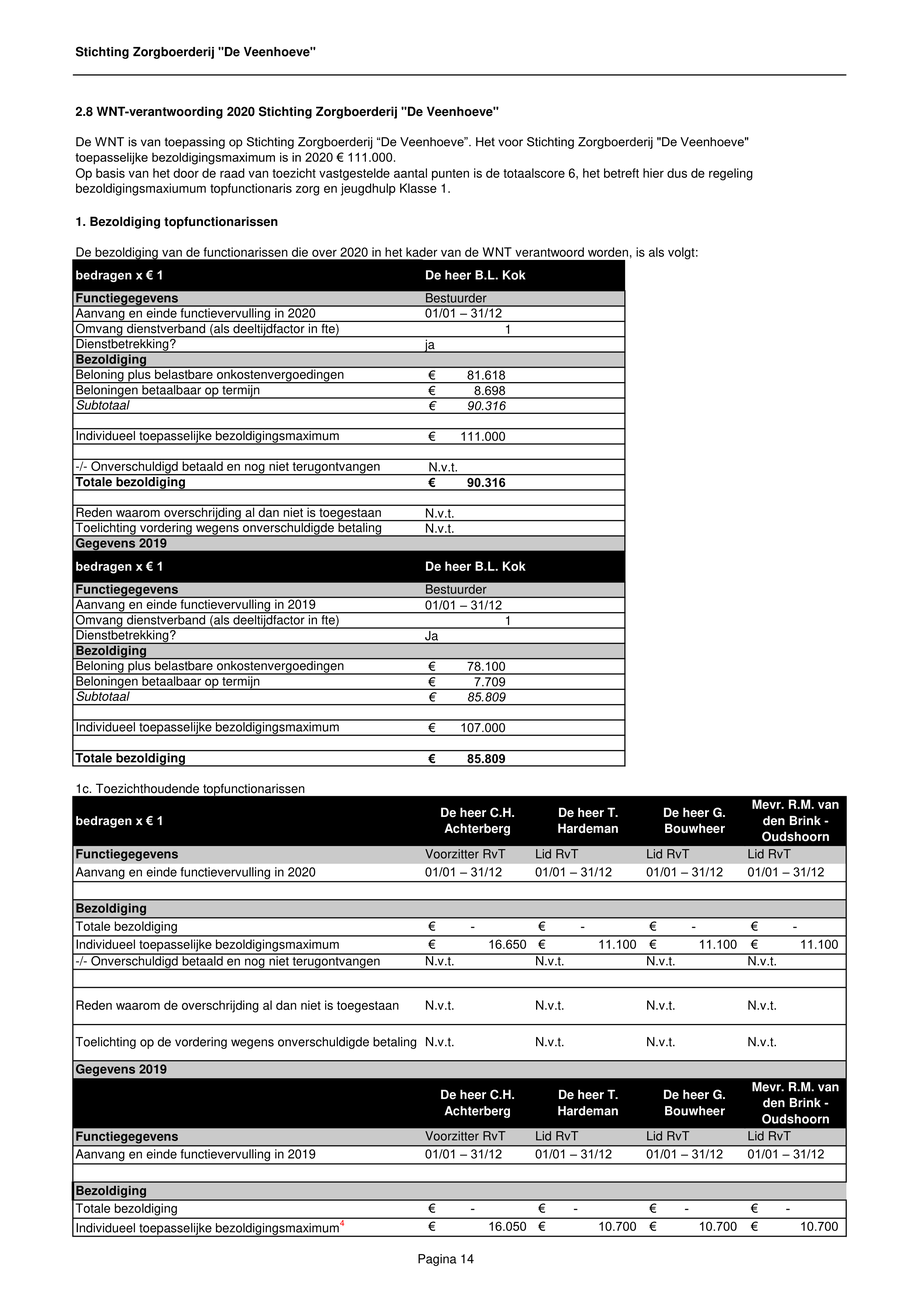coulmn: (77, 265, 384, 768), (69, 805, 417, 1244), (410, 262, 547, 765), (533, 792, 639, 1243), (421, 801, 529, 1238), (746, 798, 845, 1243), (648, 794, 744, 1237)
